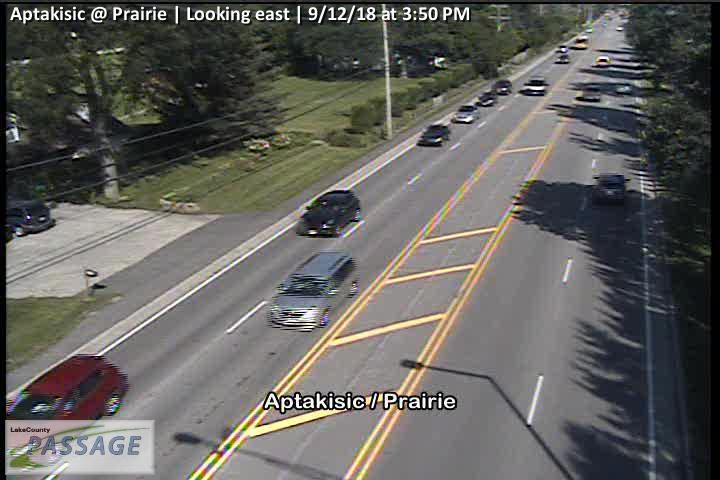SUV: (1, 353, 130, 449), (265, 251, 359, 331), (522, 75, 546, 96), (583, 78, 601, 100)
Sedan: (295, 191, 361, 237), (591, 172, 631, 203), (417, 124, 450, 148), (452, 104, 481, 124), (474, 90, 496, 106), (493, 79, 512, 96), (555, 53, 570, 63)
